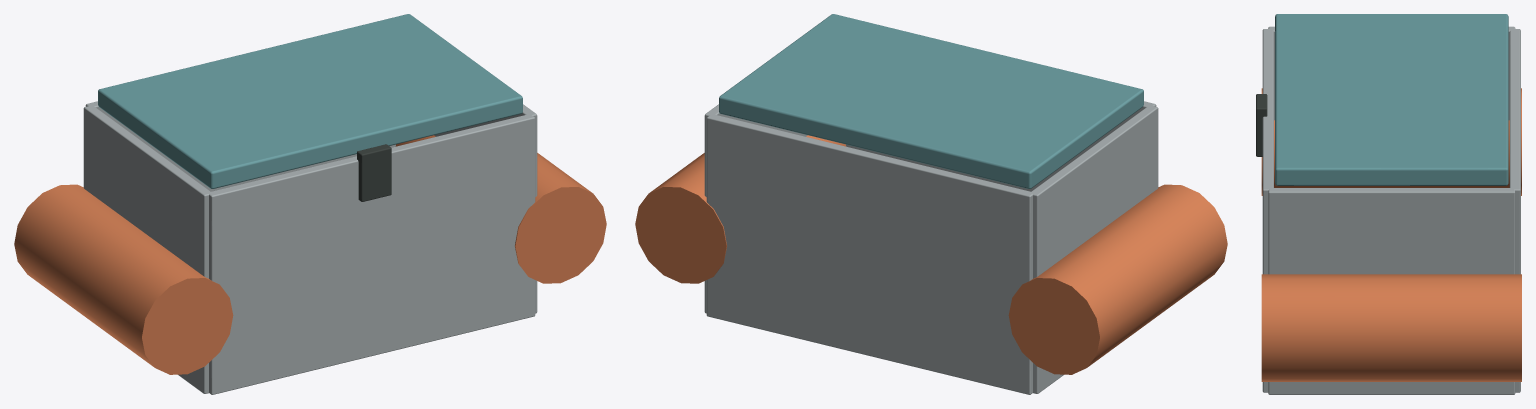
Rendered from flooded-and-coastal-survival-floating-cargo-chest-d2e51718__20066.glb.
The picture shows the model from 3 angles, left to right: view 1: azimuth 30°, elevation 25°; view 2: azimuth 150°, elevation 25°; view 3: azimuth 270°, elevation 25°; orthographic projection. The views are drawn at different scales.
Visible parts, largest first — view 1: floating-cargo-chest, cargo-lid/water; view 2: floating-cargo-chest, cargo-lid/water; view 3: floating-cargo-chest, cargo-lid/water.
Part boxes in pixels (x1,y1,x2,y2): floating-cargo-chest: (14, 101, 606, 394); cargo-lid/water: (98, 14, 522, 188); floating-cargo-chest: (635, 101, 1227, 394); cargo-lid/water: (719, 14, 1143, 188); floating-cargo-chest: (1256, 26, 1521, 394); cargo-lid/water: (1275, 14, 1508, 185).
Bounding box in the file's own units: 1.22 × 0.545 × 0.5925.
